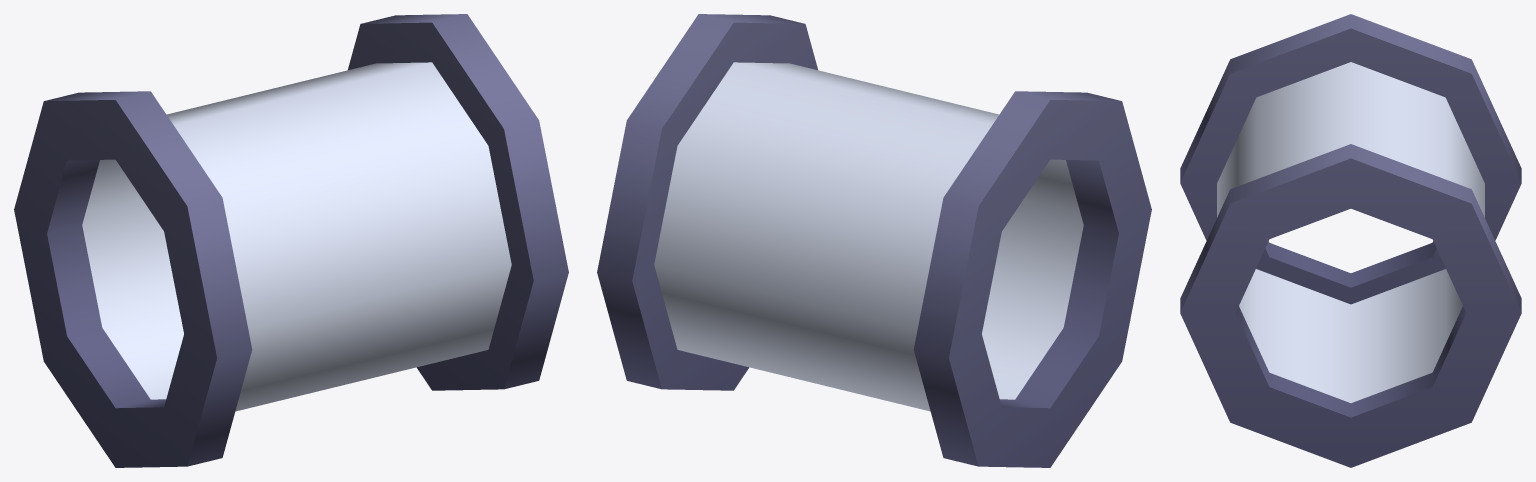
The model's file is kenney-factory-pipe-glass-large.glb.
3 views of the same model, side by side, from view 1: azimuth 30°, elevation 25°; view 2: azimuth 150°, elevation 25°; view 3: azimuth 270°, elevation 25° (orthographic). The views are drawn at different scales.
Visible parts, largest first — view 1: pipe-glass-large; view 2: pipe-glass-large; view 3: pipe-glass-large.
Boxes of the visible parts, <box> form: pipe-glass-large: <box>14,14,568,467</box>; pipe-glass-large: <box>597,14,1151,467</box>; pipe-glass-large: <box>1180,14,1521,467</box>.
Size of the model in its own units: 1 by 1 by 1.
2 materials, 1 textured.
